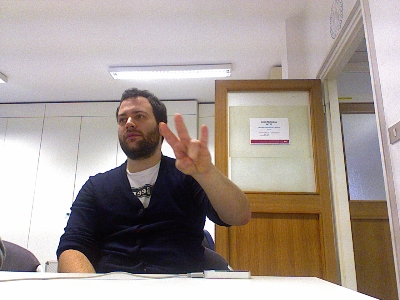观音: (157, 112, 213, 177)
